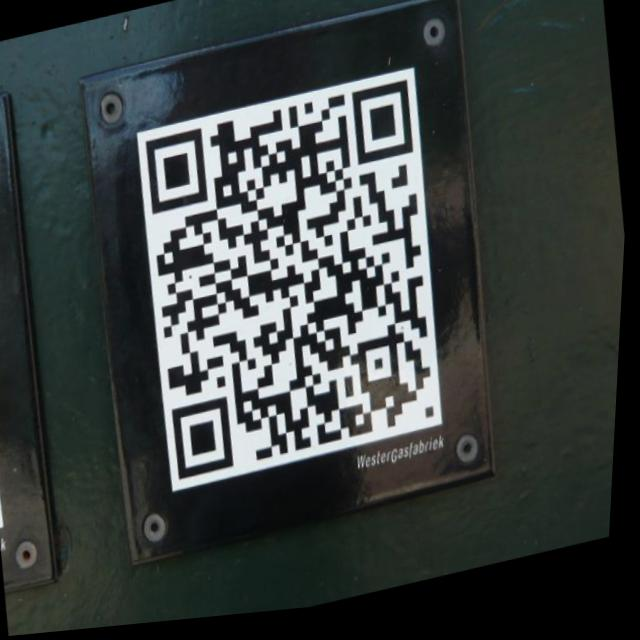qrcode: (135, 86, 456, 487)
